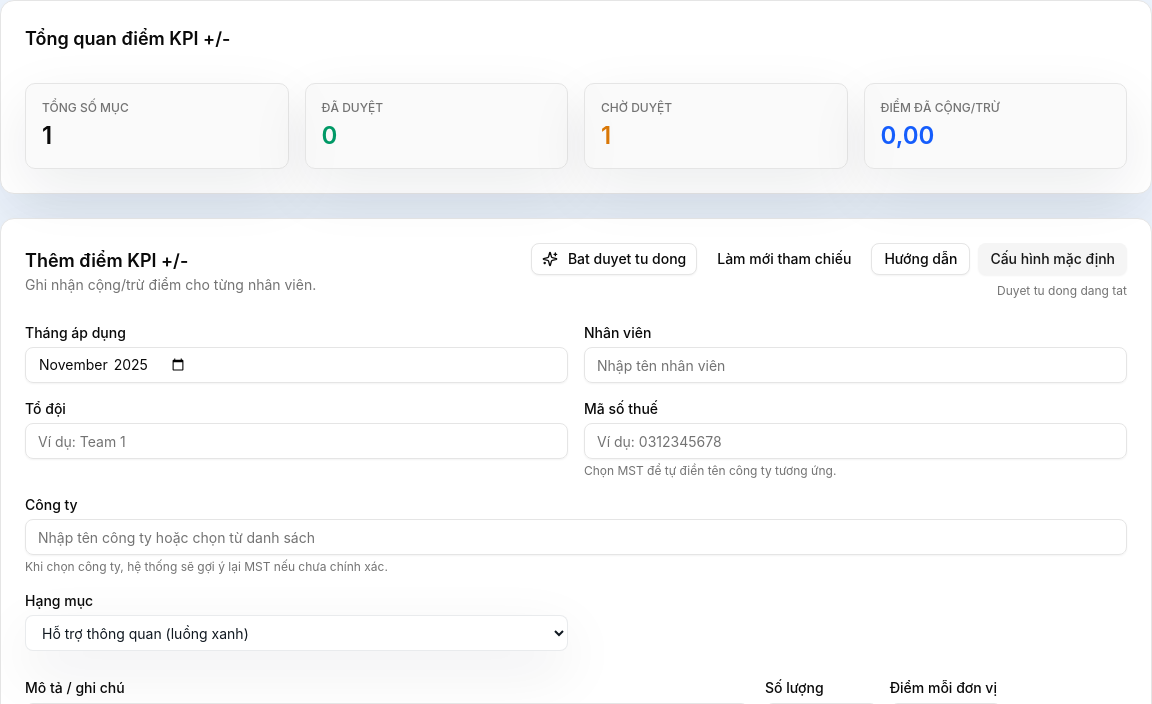
KPIAdjustments UI › mở dialog hướng dẫn và xem chi tiết điểm hiện có
What coordinates should you click on to do the following:
click the button "Hướng dẫn"
I would click on:
 (921, 259)
Its box is [871,243,970,275].
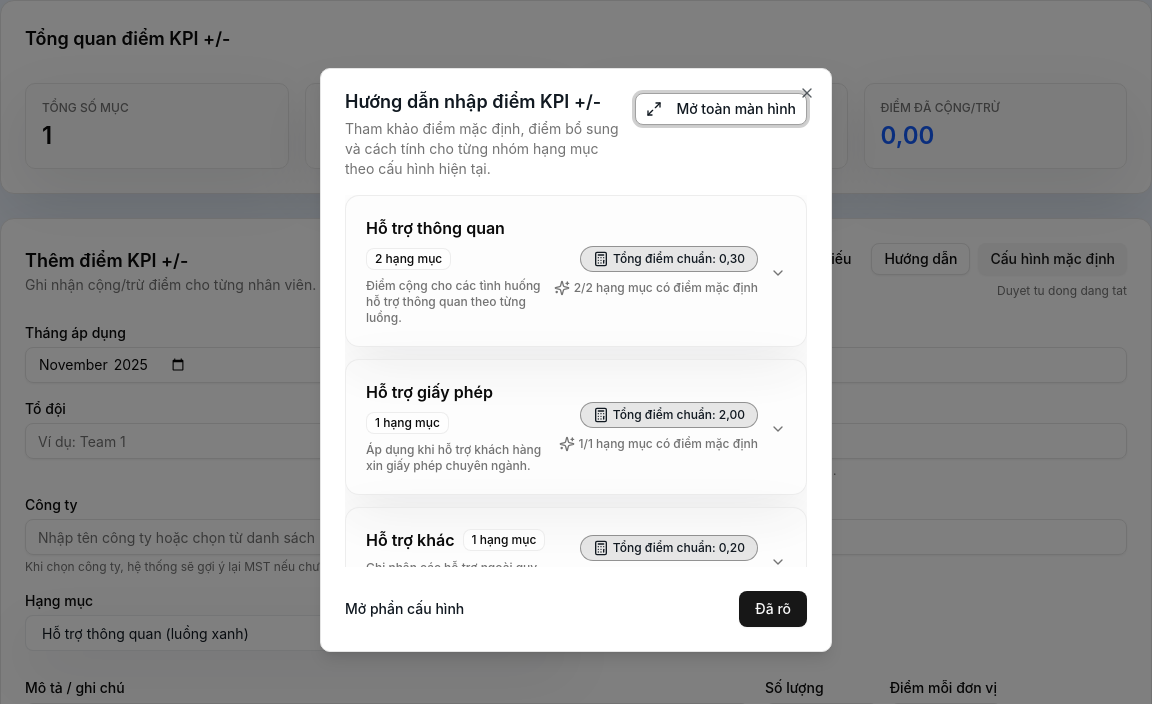
What coordinates should you click on to do the following:
click the button "hỗ trợ khác"
I would click on:
 (429, 392)
Its box is [350,364,802,490].
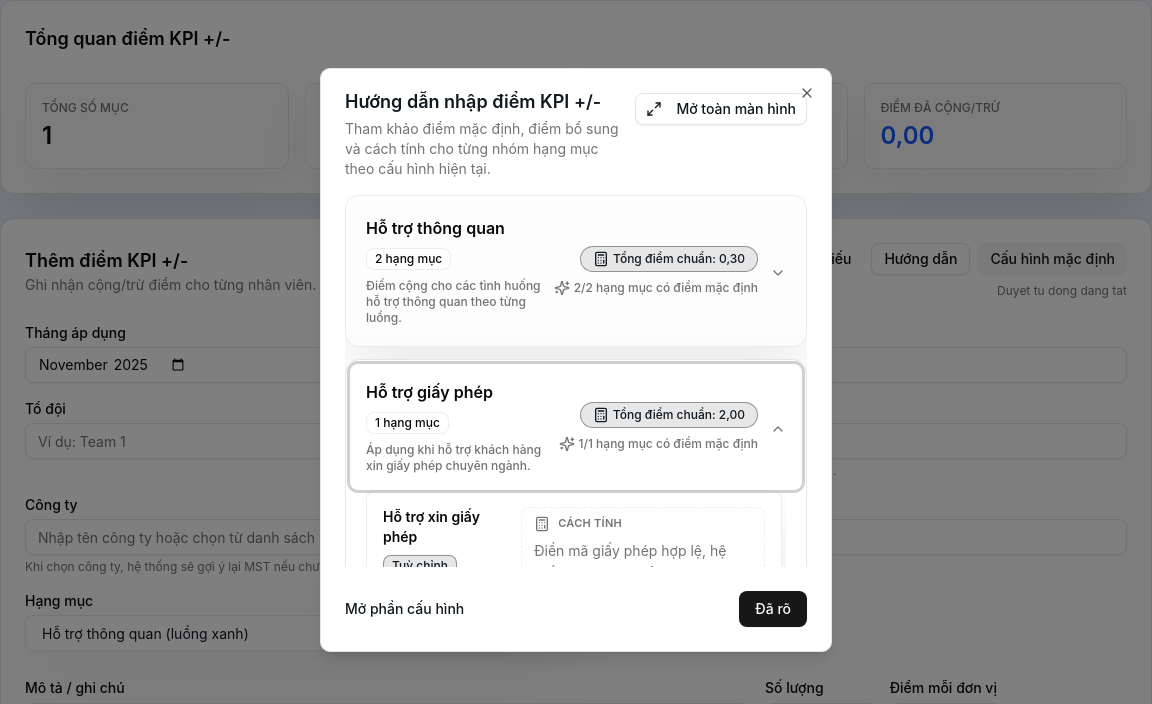
Expected: the button "Hỗ trợ giấy phép" is shown, [350,364,802,490]
What coordinates should you click on to do the following:
click the button "Đã rõ"
I would click on:
 (773, 609)
Its box is [739,591,807,627].
(page scrolled)
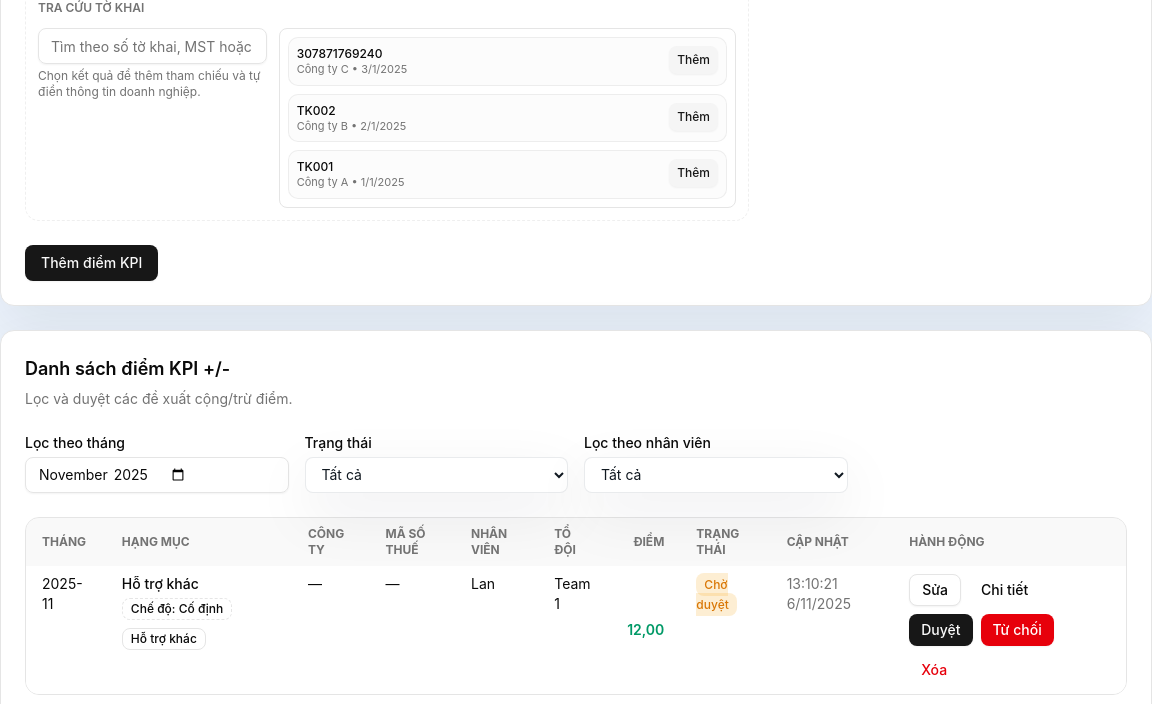
What coordinates should you click on to do the following:
click the button "Chi tiết"
I would click on:
 (1005, 590)
Its box is [969,574,1040,606].
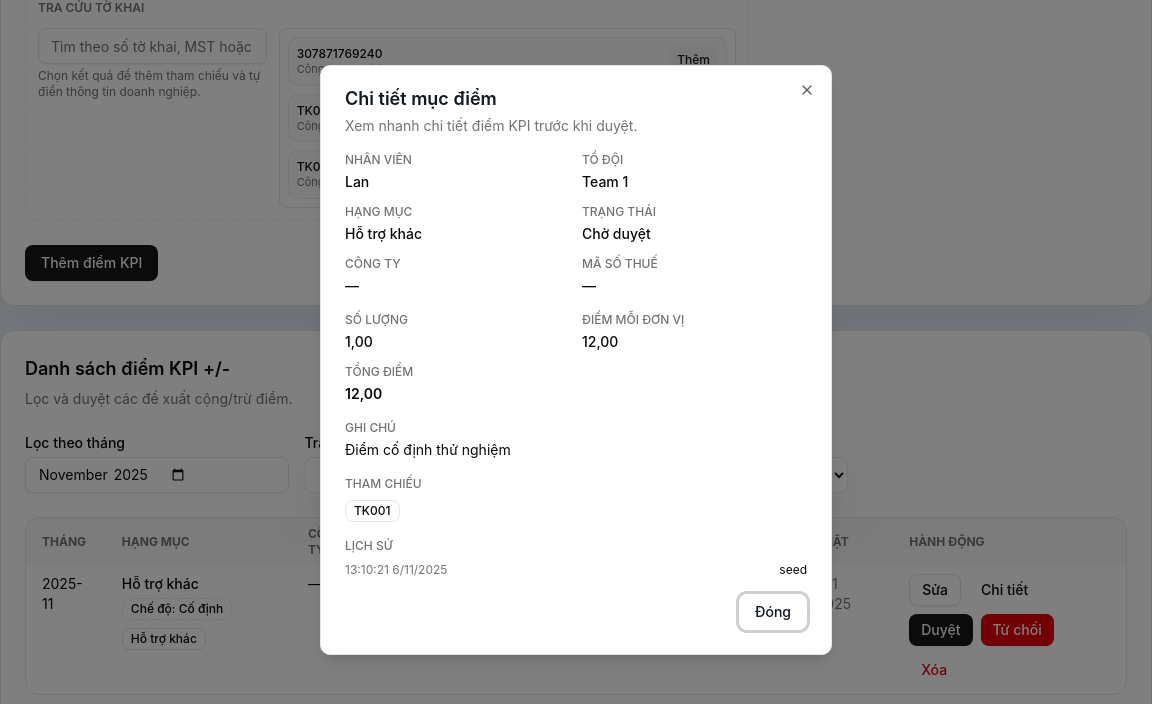
Expected: the heading "Chi tiết mục điểm" is shown, [345,88,497,109]
Expected: the text "Lan" is shown, [345,173,369,190]
Expected: the text "Điểm cố định thử nghiệm" is shown, [345,441,511,458]
